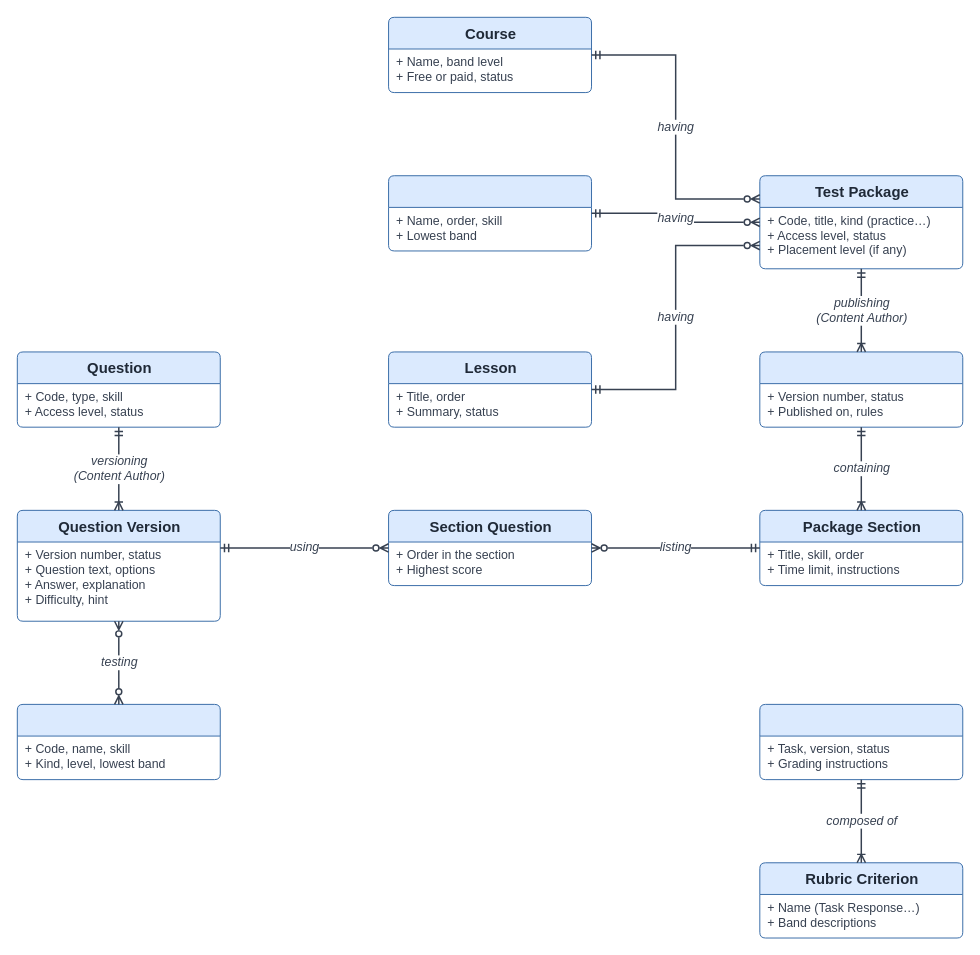
The diagram is 980 pixels wide and 955 high, and some of its shapes have lost their labels. Here are the shapes that lost their labels. From the top down, the box of each, then its label:
(388, 175, 592, 251): Topic
(759, 351, 963, 427): Package Version
(16, 703, 220, 780): Knowledge Point
(759, 703, 963, 780): Grading Rubric
